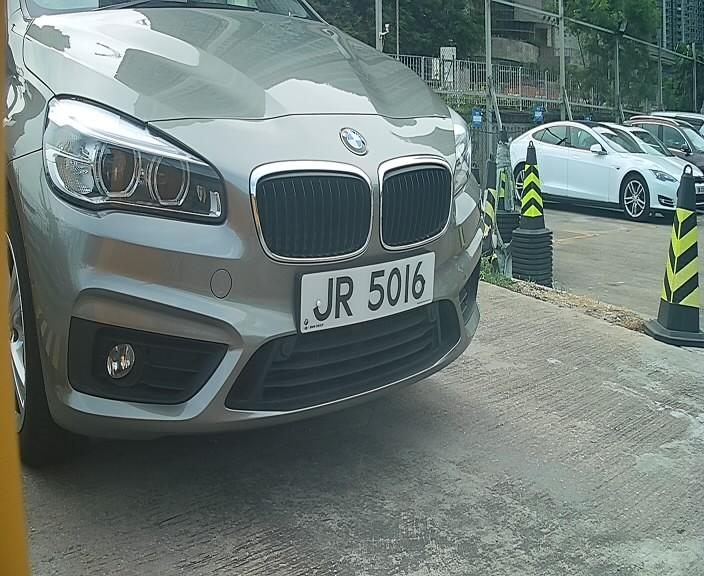License Plate: (290, 245, 437, 340)
